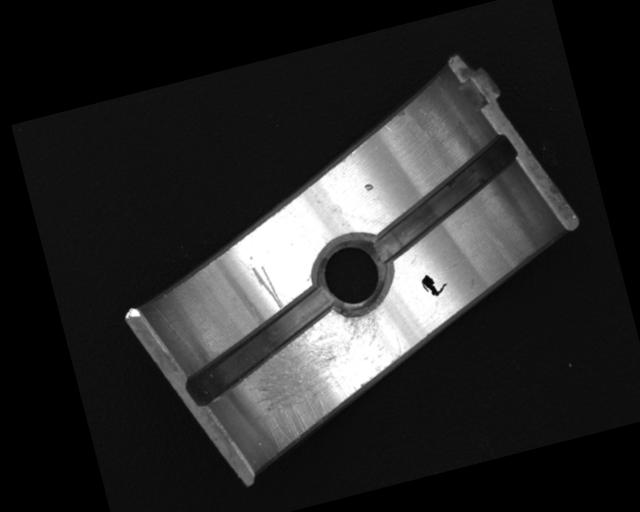blot: (419, 269, 449, 299)
bruise: (362, 181, 376, 193)
gap: (352, 133, 534, 266), (171, 284, 347, 407)
hole: (306, 229, 401, 325)
nick: (249, 260, 284, 315)
scratch: (241, 304, 413, 454)
